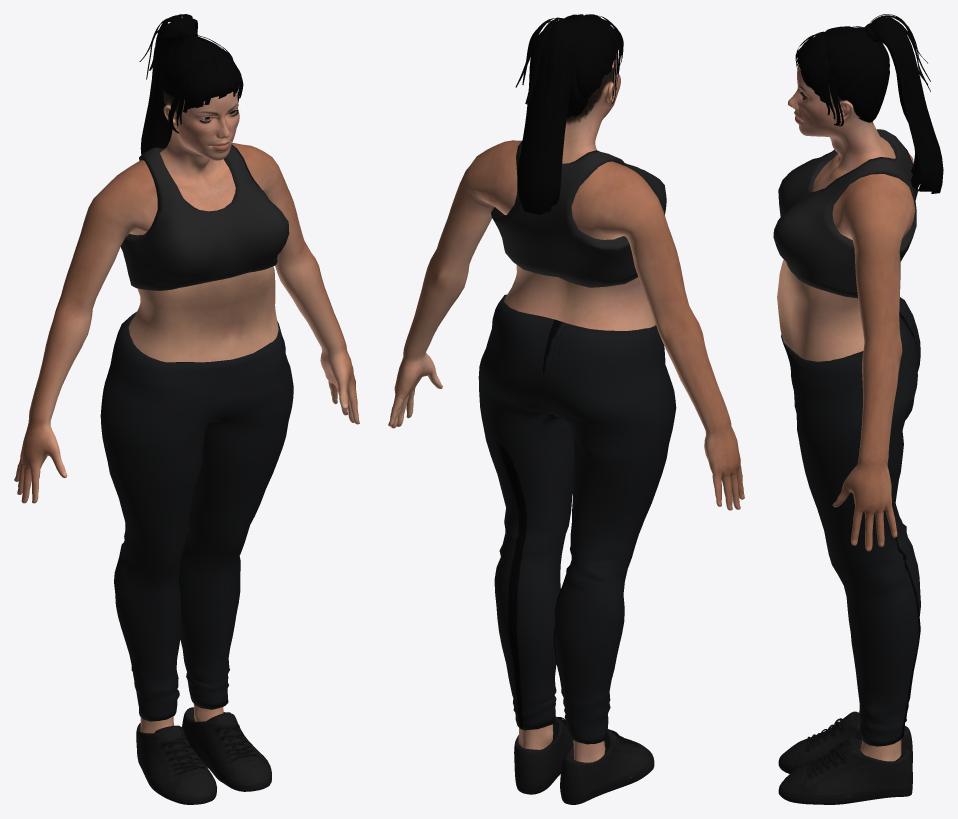
3 views of the same model, side by side, from view 1: azimuth 30°, elevation 25°; view 2: azimuth 150°, elevation 25°; view 3: azimuth 270°, elevation 25° (orthographic). The views are drawn at different scales.
Visible parts, largest first — view 1: C1.004, Arms.002, Shoes.002, C1.005; view 2: C1.004, Arms.002, Shoes.002, C1.005; view 3: C1.004, Arms.002, Shoes.002, C1.005.
Boxes of the visible parts, box(x1,y1,x2,y2) form: C1.004: box(100, 14, 293, 721); Arms.002: box(14, 143, 359, 503); Shoes.002: box(136, 707, 271, 804); C1.005: box(140, 703, 223, 733); C1.004: box(478, 14, 676, 744); Arms.002: box(388, 140, 744, 510); Shoes.002: box(514, 716, 654, 804); C1.005: box(518, 724, 605, 762); C1.004: box(773, 14, 943, 746); Arms.002: box(832, 153, 915, 551); Shoes.002: box(778, 711, 912, 804); C1.005: box(859, 724, 901, 761).
Size of the model in its own units: 3.42 by 7.31 by 1.47.
8 materials, 5 textured.
